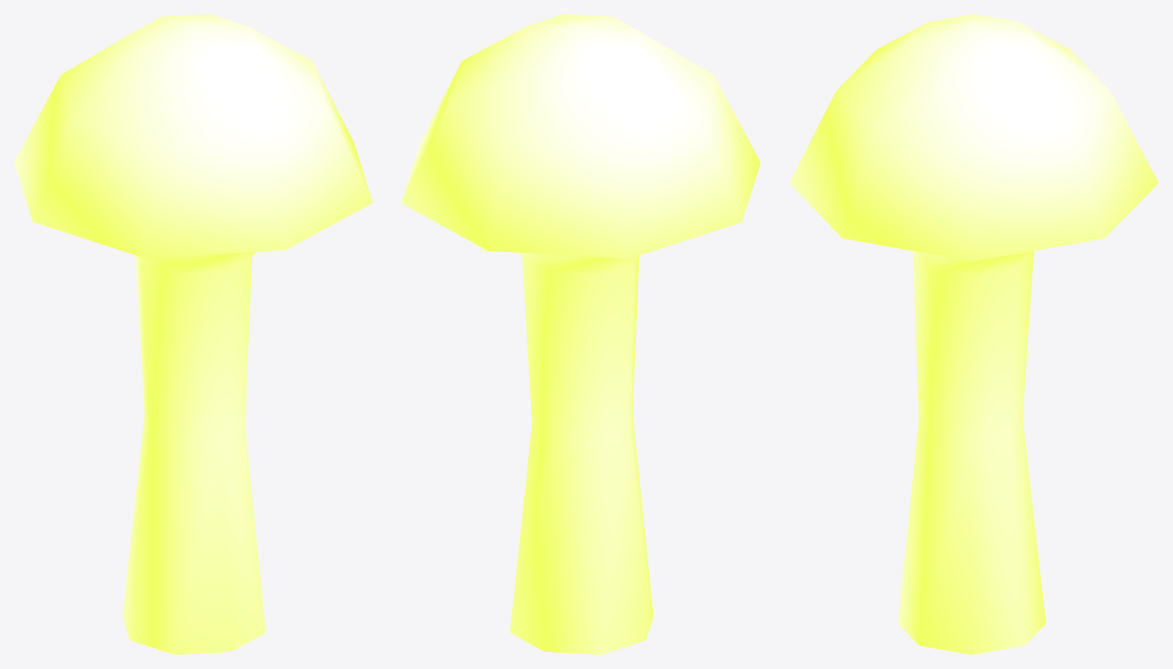
File: cosgurmelocolorido3.fbx
3 renders of one model, left to right at view 1: azimuth 30°, elevation 25°; view 2: azimuth 150°, elevation 25°; view 3: azimuth 270°, elevation 25°, orthographic.
Parts seen in each view (by area): view 1: cogumelopequeno; view 2: cogumelopequeno; view 3: cogumelopequeno.
Part boxes in pixels (x1,y1,x2,y2): cogumelopequeno: (14, 14, 372, 654); cogumelopequeno: (401, 14, 760, 654); cogumelopequeno: (789, 14, 1158, 654).
Size of the model in its own units: 40.05 by 70.97 by 39.92.
